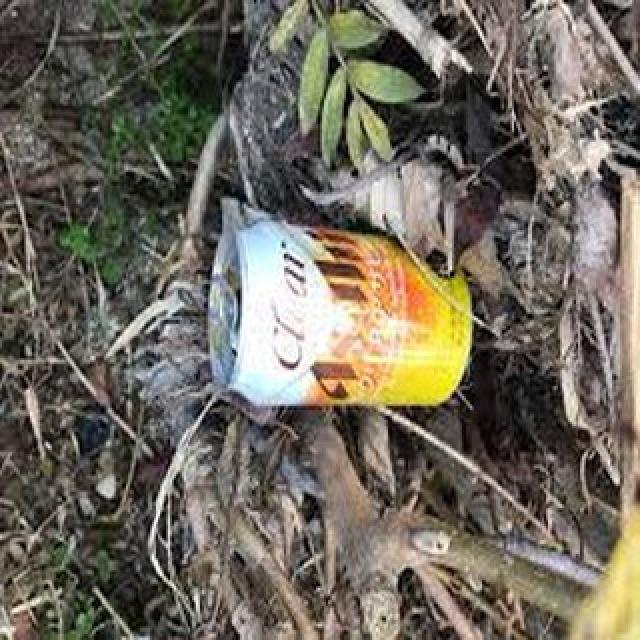recyclable: (207, 218, 473, 410)
